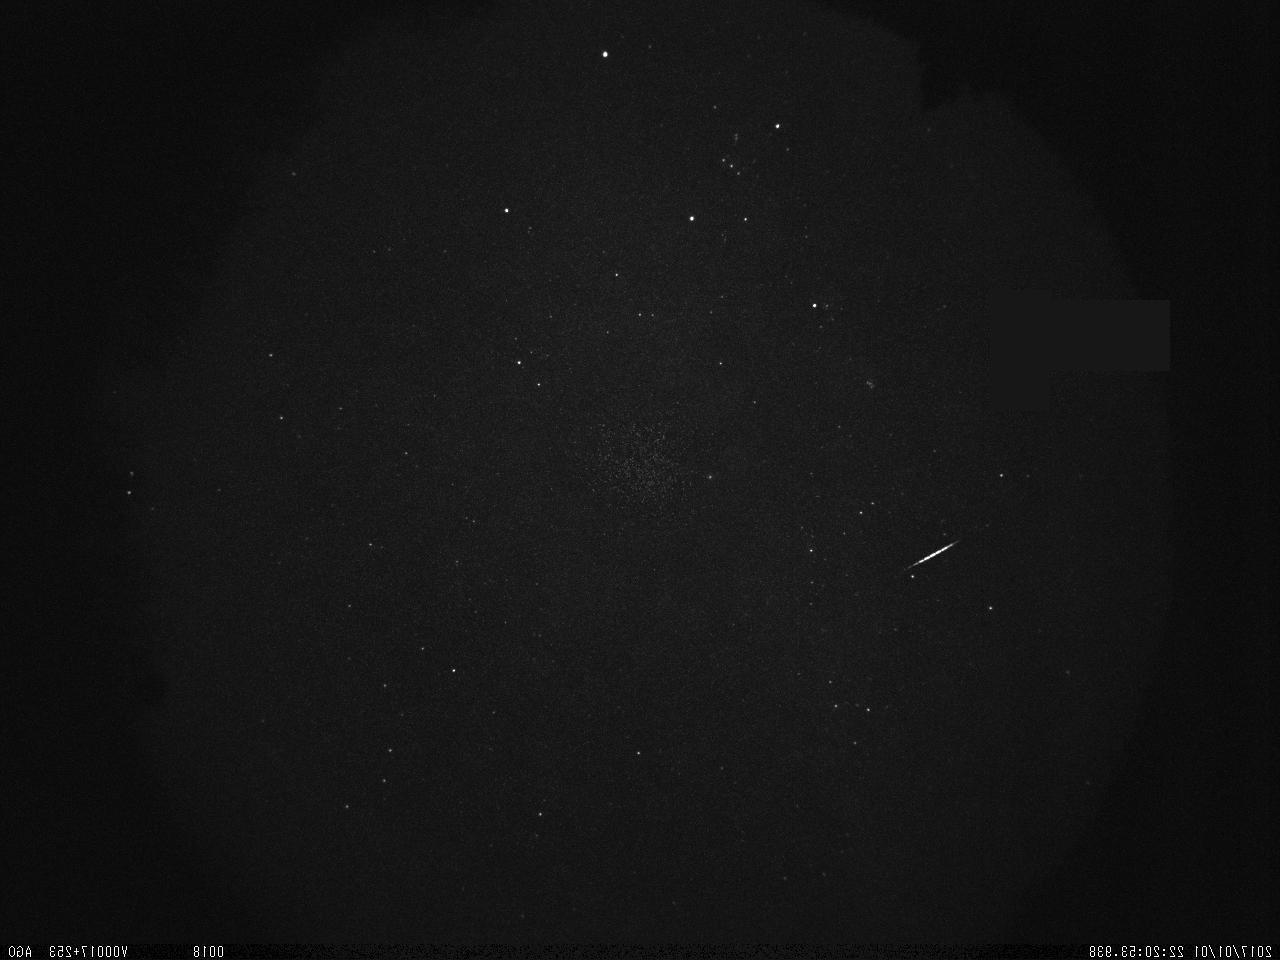meteor: (889, 537, 965, 582)
